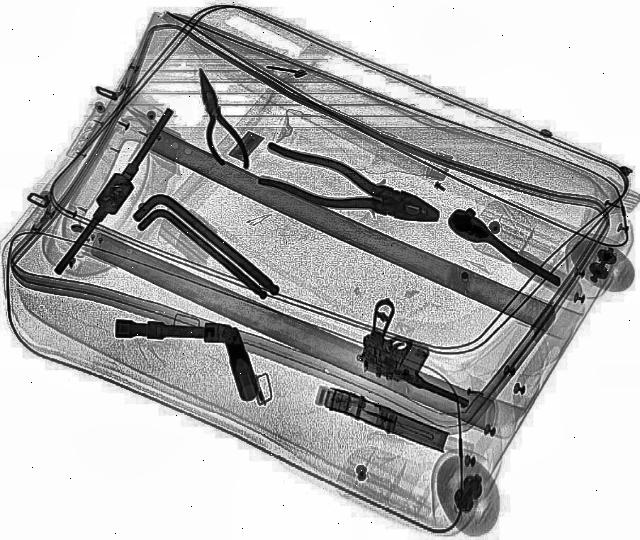Gun: (338, 298, 506, 412)
Pliers: (248, 144, 448, 241), (186, 66, 250, 176)
